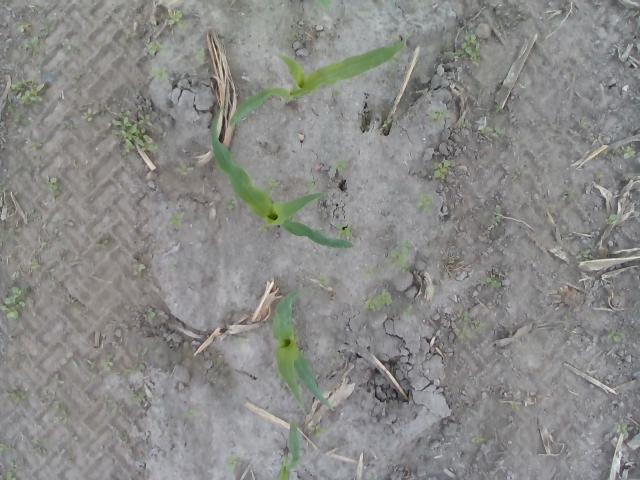Maize: (208, 114, 358, 249), (230, 27, 408, 128), (270, 286, 342, 418), (277, 419, 304, 480)
Weeds: (109, 111, 168, 160), (5, 76, 50, 126), (454, 310, 496, 342), (382, 240, 417, 274), (8, 250, 44, 283), (127, 361, 149, 407), (1, 283, 28, 320), (360, 289, 392, 315), (458, 32, 482, 66), (15, 20, 41, 51), (50, 398, 74, 428), (480, 202, 504, 230), (167, 8, 190, 32), (100, 394, 121, 420), (82, 350, 98, 384), (430, 159, 455, 180), (576, 236, 594, 264), (146, 39, 172, 58), (414, 192, 436, 214), (46, 175, 63, 203), (148, 65, 173, 82), (167, 210, 187, 231), (617, 142, 640, 160), (426, 106, 449, 124), (310, 0, 334, 16), (5, 222, 24, 242), (6, 386, 28, 403), (31, 437, 49, 457), (382, 0, 402, 18), (96, 350, 112, 372), (0, 463, 20, 480), (360, 263, 379, 280), (311, 423, 332, 438), (174, 161, 192, 178), (480, 126, 505, 138), (472, 431, 493, 445), (334, 223, 352, 239), (80, 108, 98, 124), (63, 117, 81, 132), (558, 190, 580, 202), (196, 48, 209, 68), (485, 274, 501, 290), (265, 176, 281, 192), (134, 262, 150, 278), (494, 22, 510, 38), (255, 220, 272, 235), (222, 196, 240, 210), (577, 113, 591, 130), (511, 166, 528, 180), (144, 305, 158, 322), (607, 330, 626, 342), (401, 303, 416, 318), (182, 408, 200, 420), (62, 37, 72, 58), (320, 273, 332, 290), (60, 352, 74, 366), (226, 457, 241, 470), (332, 160, 348, 172), (616, 421, 630, 434), (48, 271, 58, 288), (332, 85, 345, 97), (606, 214, 618, 227), (458, 118, 473, 128), (590, 132, 602, 144), (32, 142, 44, 154), (512, 399, 524, 411), (0, 442, 13, 452), (0, 178, 9, 191), (307, 179, 316, 190), (326, 344, 336, 353), (368, 471, 377, 479), (41, 241, 49, 248)
